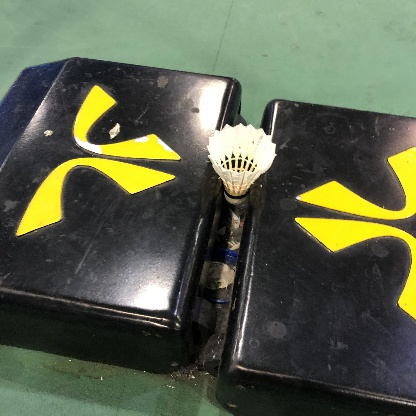ball_single: (206, 123, 276, 205)
